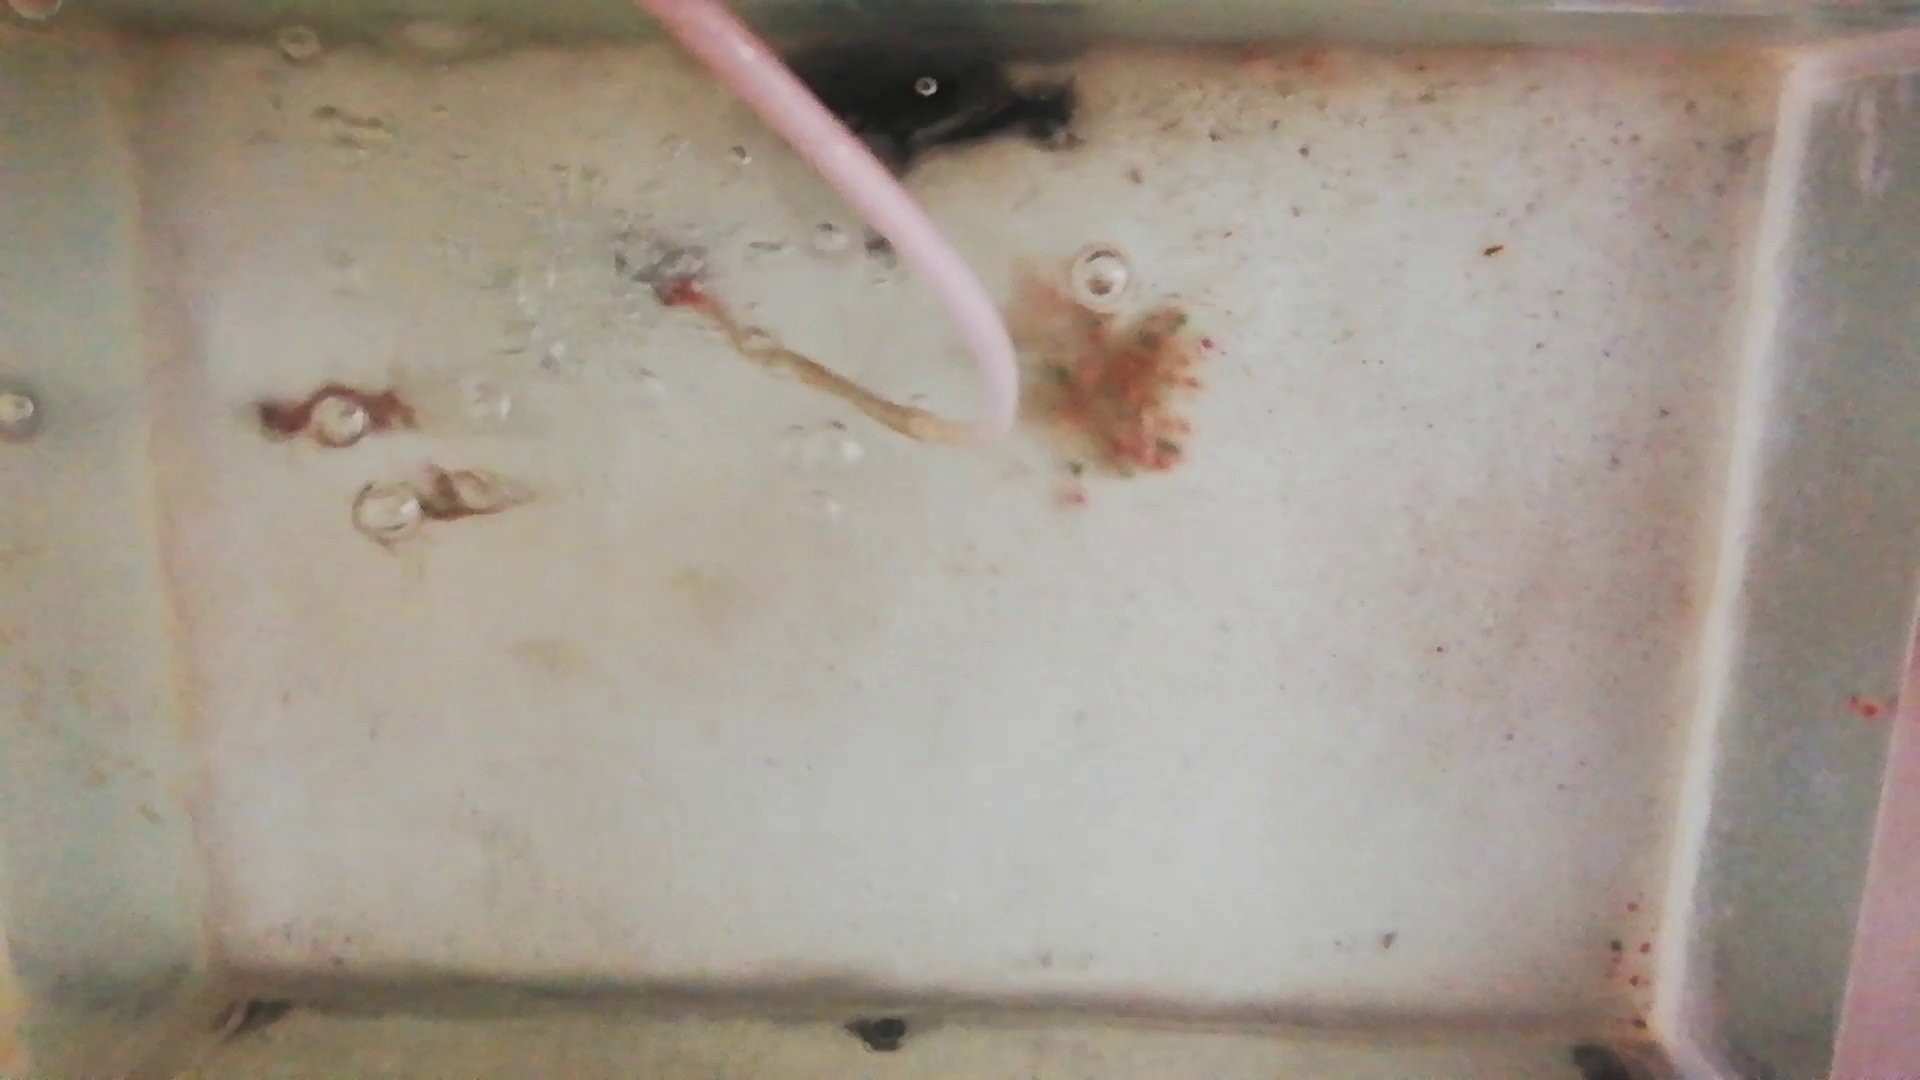fish: (349, 471, 522, 531), (245, 382, 421, 440)
